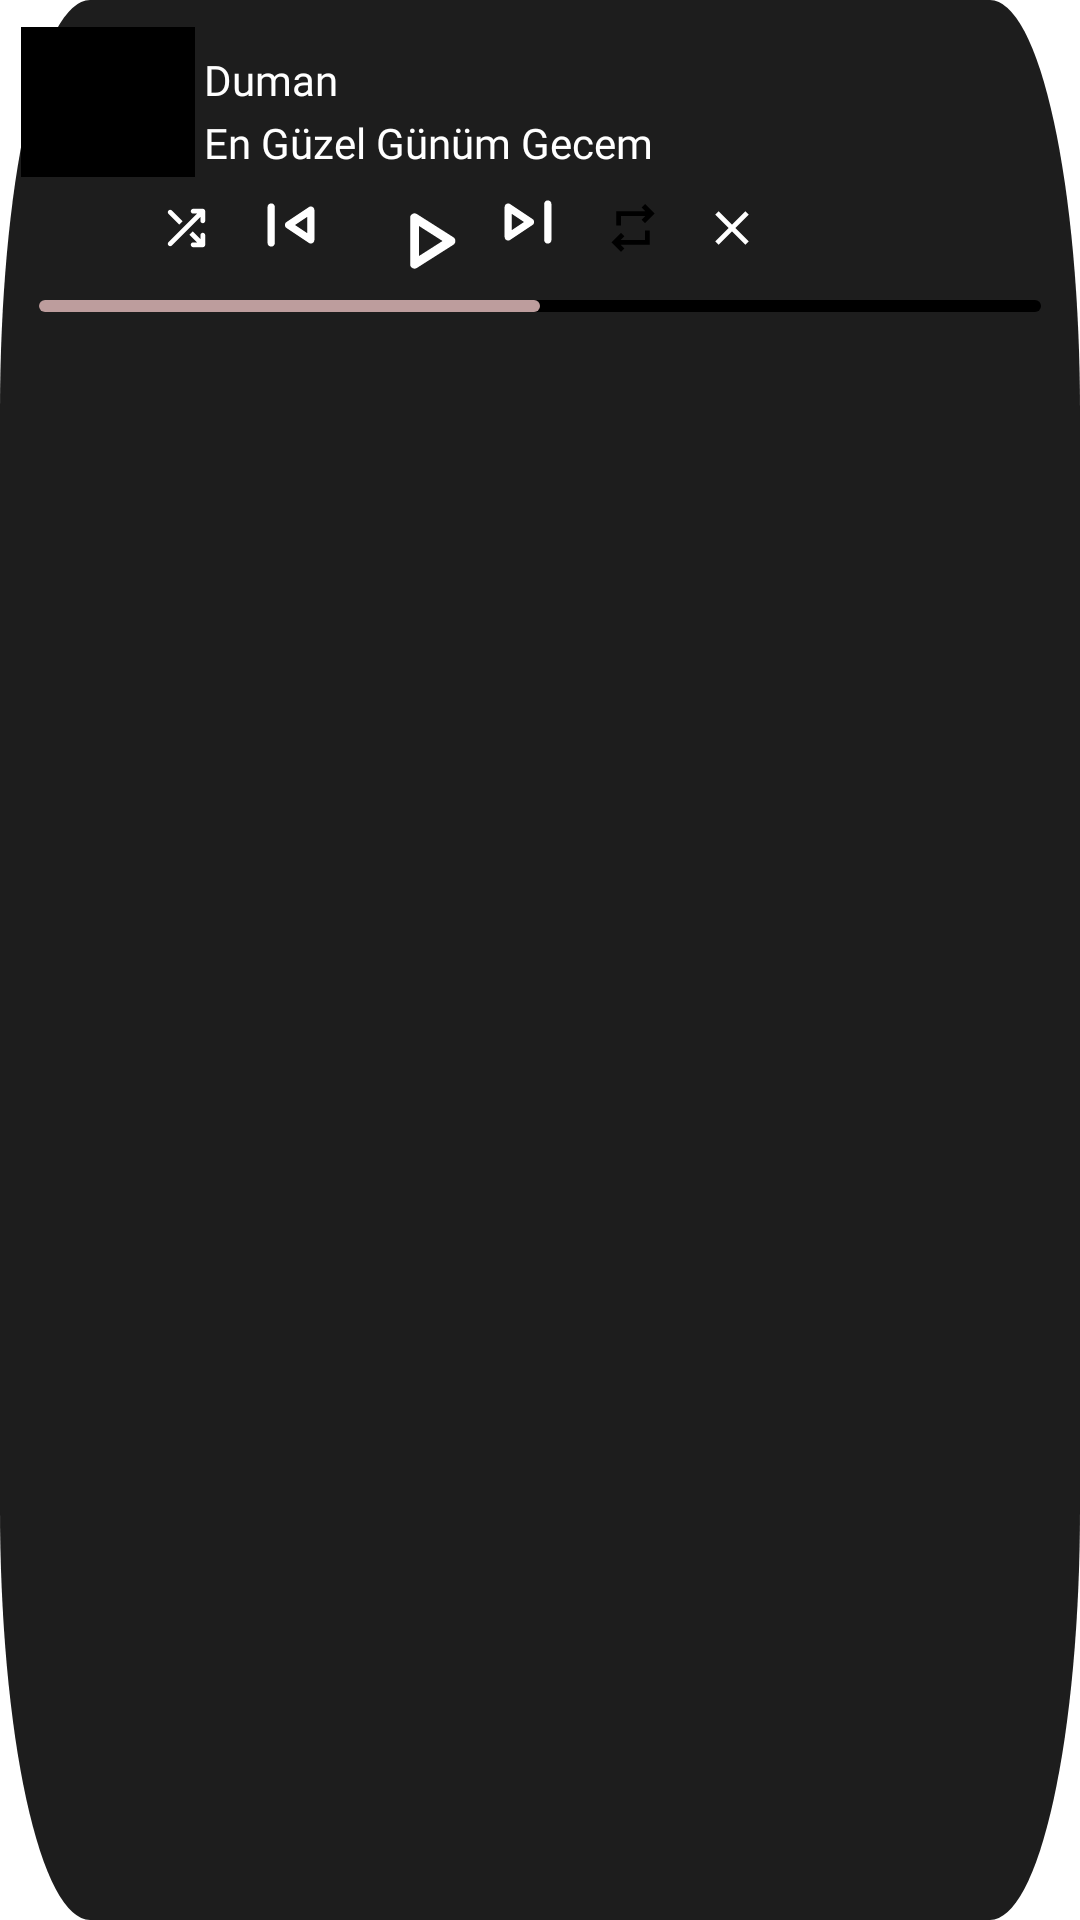

Icon bounding boxes for this 1080px x 1920px phone screenshot, format {"left": x1, "top": y1, "right": x2, "bottom": y2}:
close: {"left": 715, "top": 211, "right": 749, "bottom": 245}
repeat: {"left": 612, "top": 205, "right": 654, "bottom": 251}
shufflenot: {"left": 167, "top": 208, "right": 206, "bottom": 248}
skipnextnot: {"left": 504, "top": 200, "right": 552, "bottom": 244}
skippreviousnot: {"left": 267, "top": 203, "right": 315, "bottom": 247}
